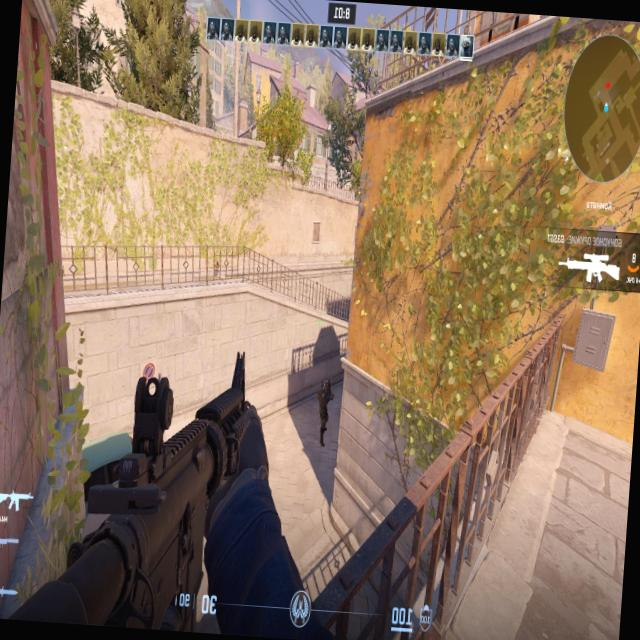CT: (318, 382, 329, 443)
CT_heat: (322, 382, 328, 391)
